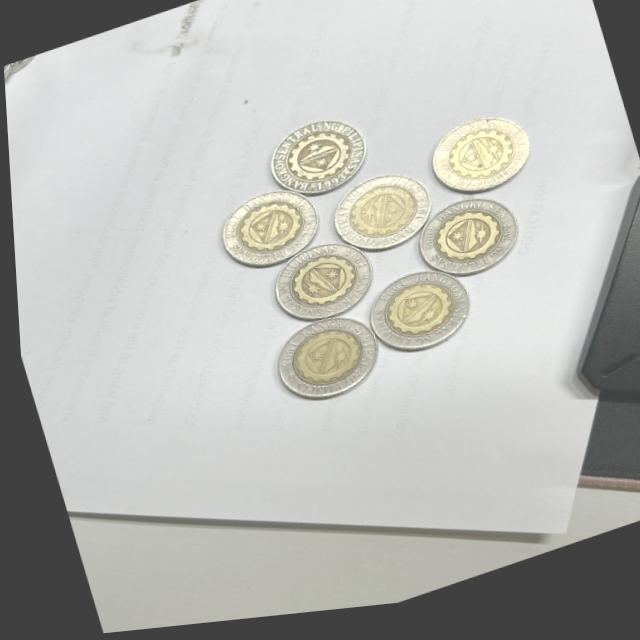10_Old_Back: (260, 111, 379, 213), (264, 317, 379, 415), (362, 270, 474, 369), (422, 117, 532, 216), (211, 191, 325, 284), (326, 174, 438, 266), (262, 244, 375, 335), (413, 200, 519, 290)
